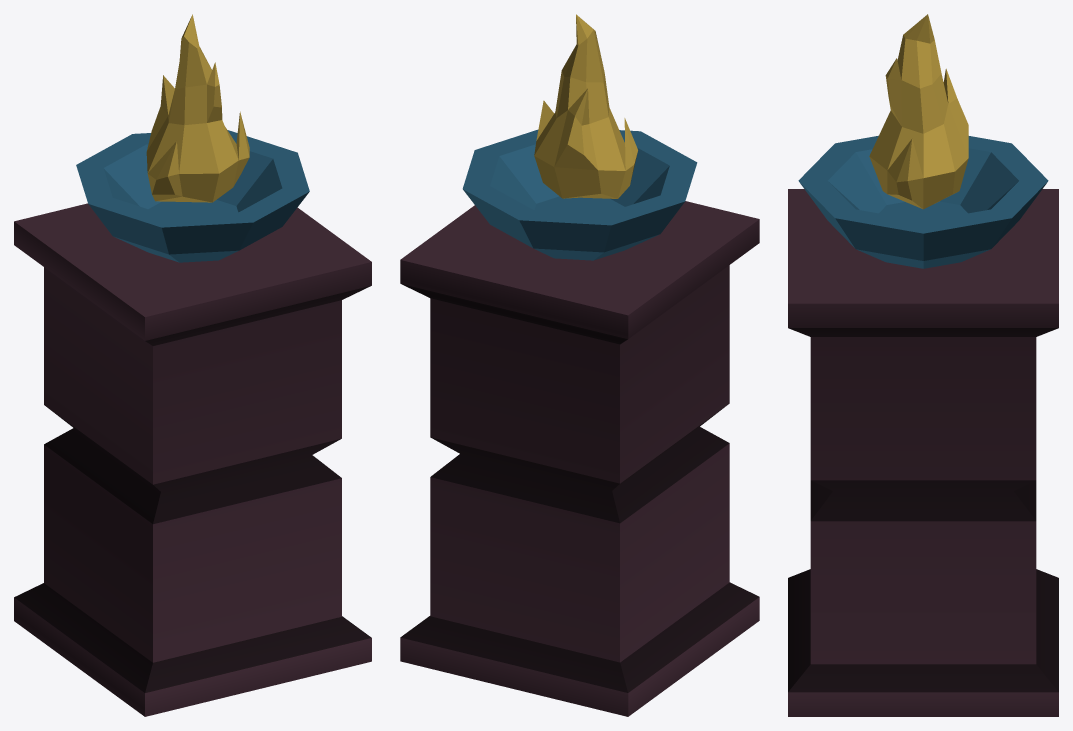
The model's file is light01.fbx.
3 renders of one model, left to right at view 1: azimuth 30°, elevation 25°; view 2: azimuth 150°, elevation 25°; view 3: azimuth 270°, elevation 25°, orthographic. The views are drawn at different scales.
Visible parts, largest first — view 1: column_half01, bowl, fire; view 2: column_half01, bowl, fire; view 3: column_half01, bowl, fire.
Part boxes in pixels (x1=…): column_half01: x1=14, y1=203, x2=371, y2=716; bowl: x1=76, y1=130, x2=309, y2=262; fire: x1=146, y1=14, x2=249, y2=202; column_half01: x1=400, y1=201, x2=759, y2=716; bowl: x1=462, y1=129, x2=697, y2=260; fire: x1=534, y1=14, x2=637, y2=198; column_half01: x1=788, y1=189, x2=1058, y2=716; bowl: x1=798, y1=135, x2=1048, y2=268; fire: x1=869, y1=14, x2=968, y2=209.
Size of the model in its own units: 60 by 158 by 60.
